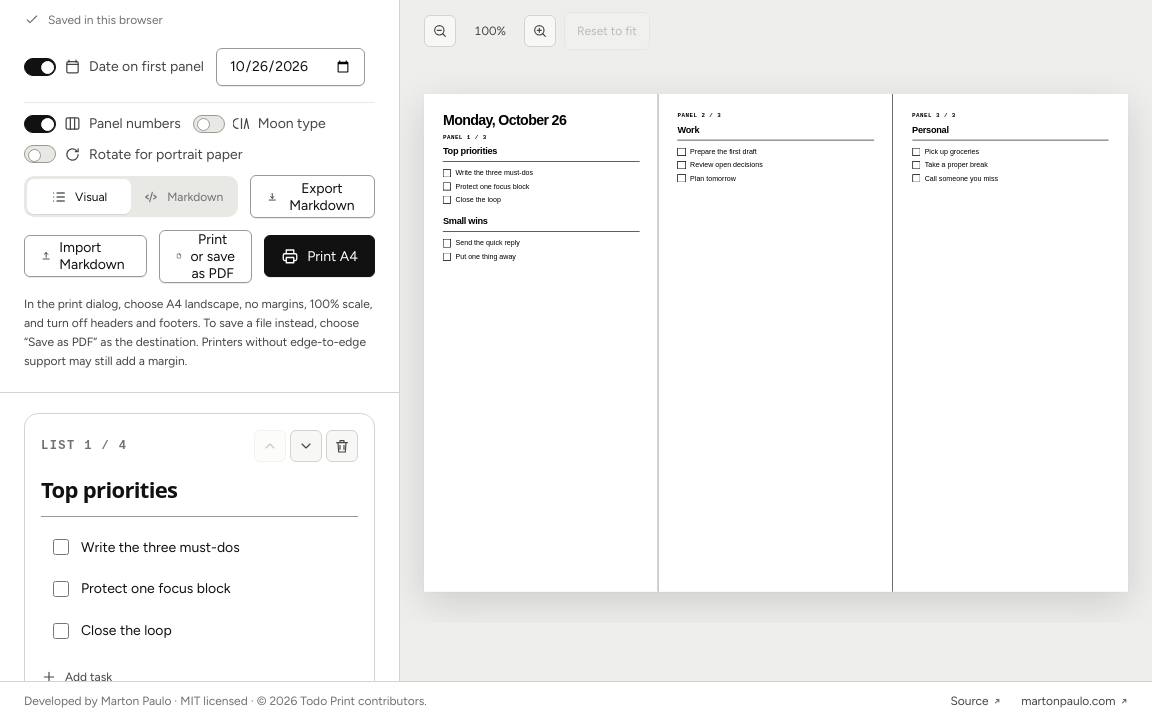
Scenario: App › switches the previewed document to Moon type and back
This screenshot has width=1152, height=720.
Click the 1st checkbox labelled "Moon type" at (259, 124), box [193,115,326,133]
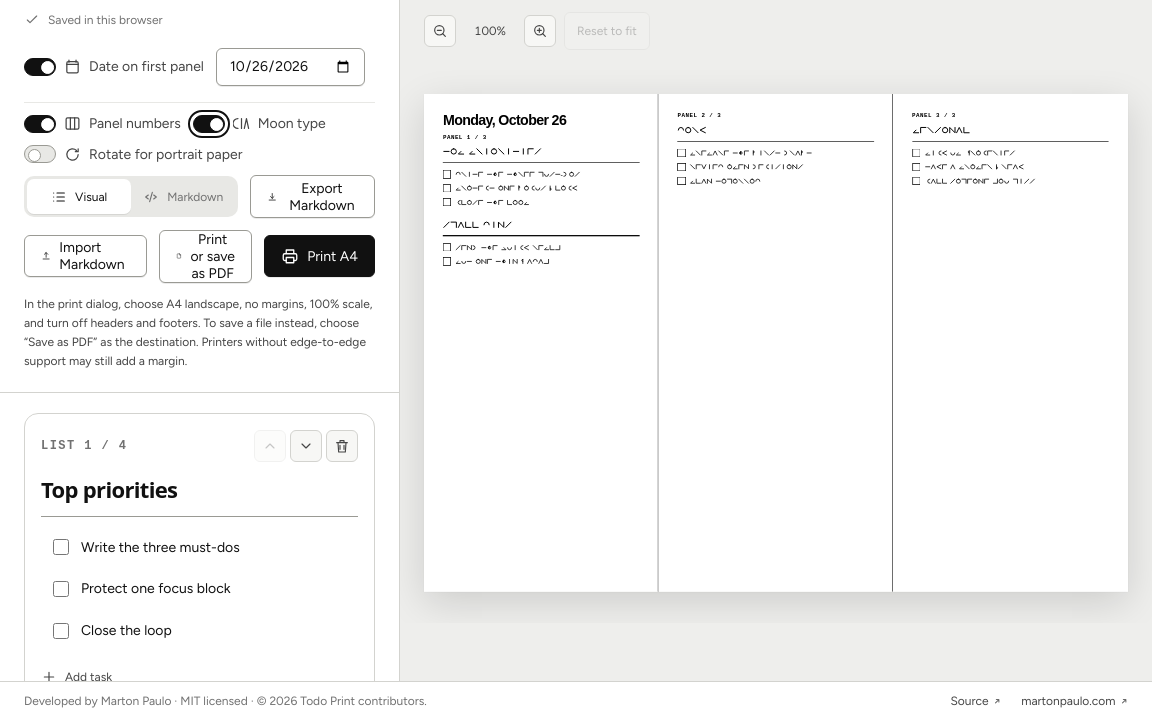
Click the 1st checkbox labelled "Moon type" at (259, 124), box [193,115,326,133]
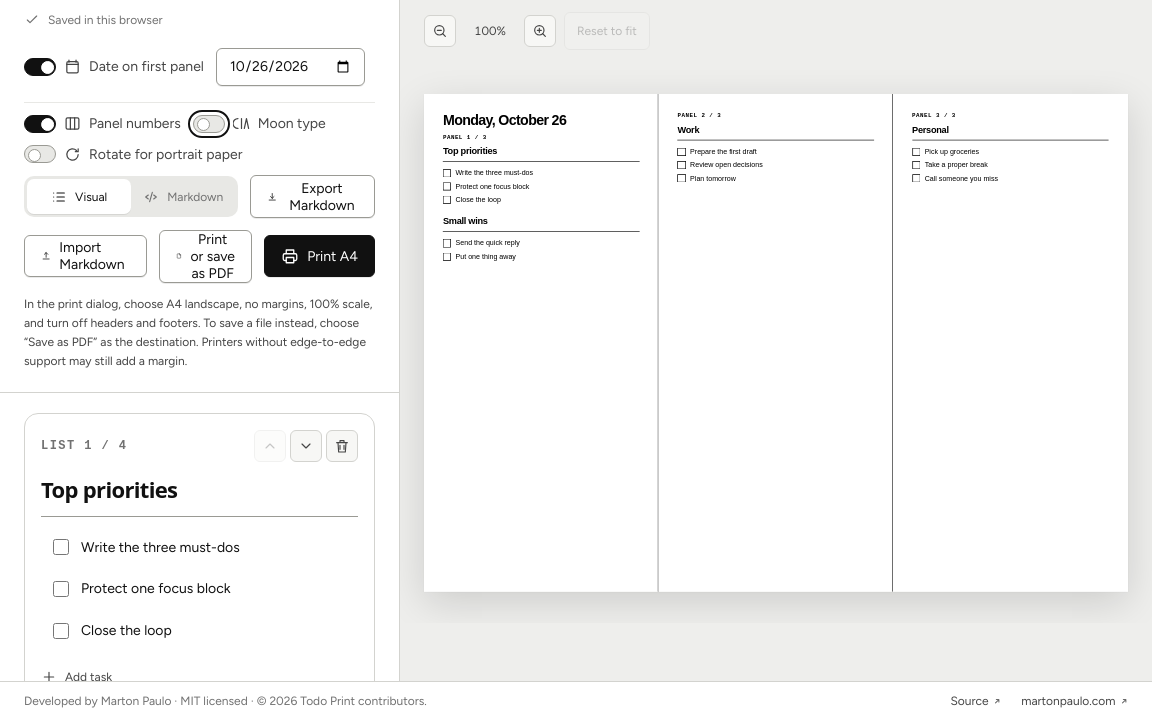
Now the icon with class "moon-word" is gone
